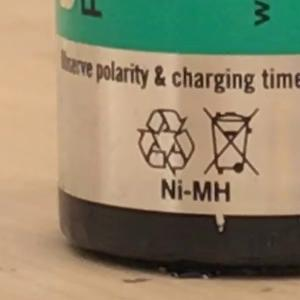NI-MH: (151, 171, 240, 209)
